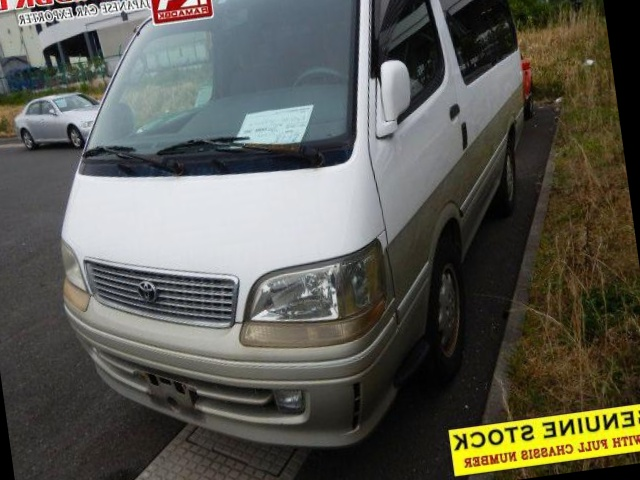van: (15, 0, 576, 480)
